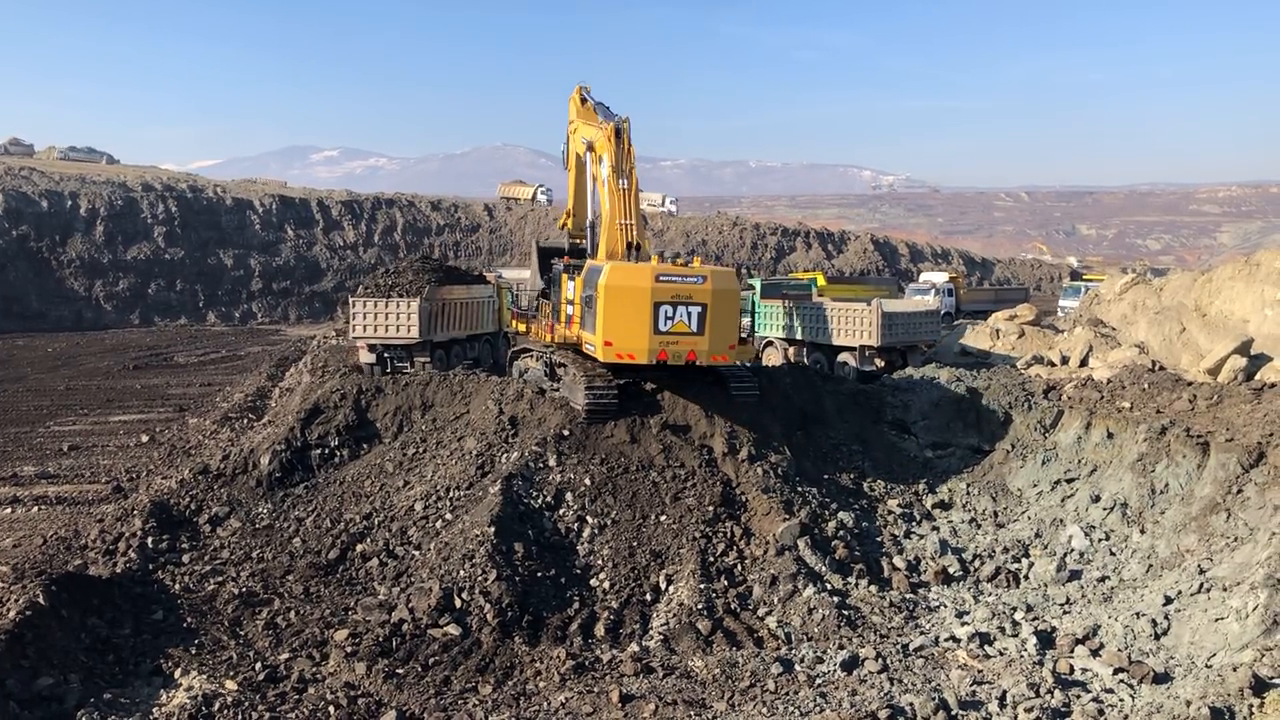empty: (518, 229, 596, 295)
